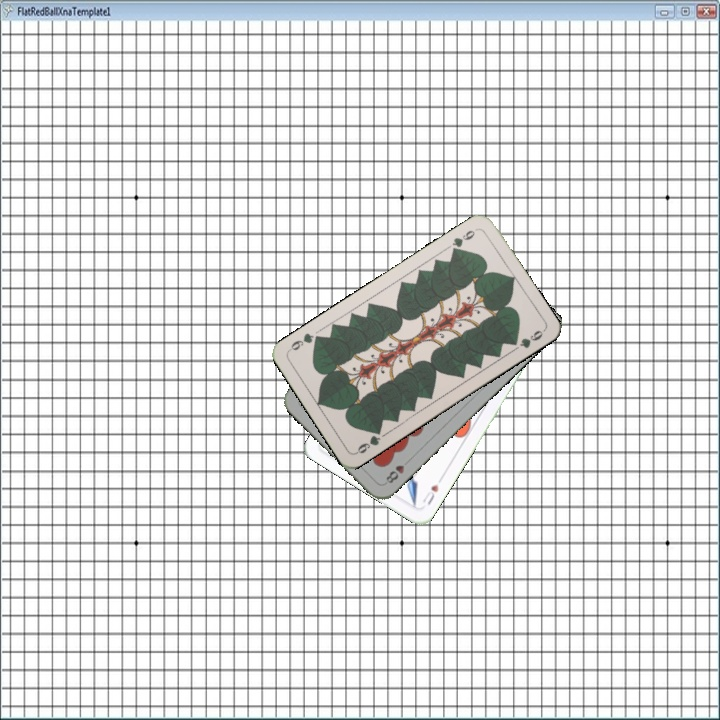G9: (352, 424, 384, 456), (448, 224, 480, 256)
H8: (381, 455, 413, 487)
HU: (419, 480, 441, 508)
